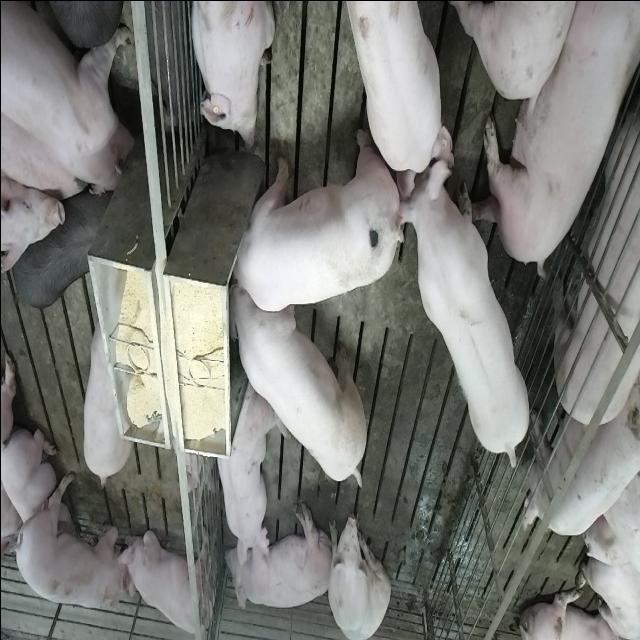Feeding: (220, 126, 396, 312), (230, 282, 370, 494)
Lateral_lying: (472, 0, 636, 276), (223, 501, 333, 613)
Sitting: (122, 518, 218, 640), (324, 503, 390, 638)
Standing: (398, 150, 534, 477), (548, 64, 640, 434), (2, 0, 136, 196), (338, 0, 449, 173), (524, 382, 640, 540), (13, 474, 132, 614), (12, 188, 108, 310), (78, 314, 129, 490)
Sternal_lying: (186, 0, 274, 150), (210, 378, 278, 564), (1, 428, 76, 558)
